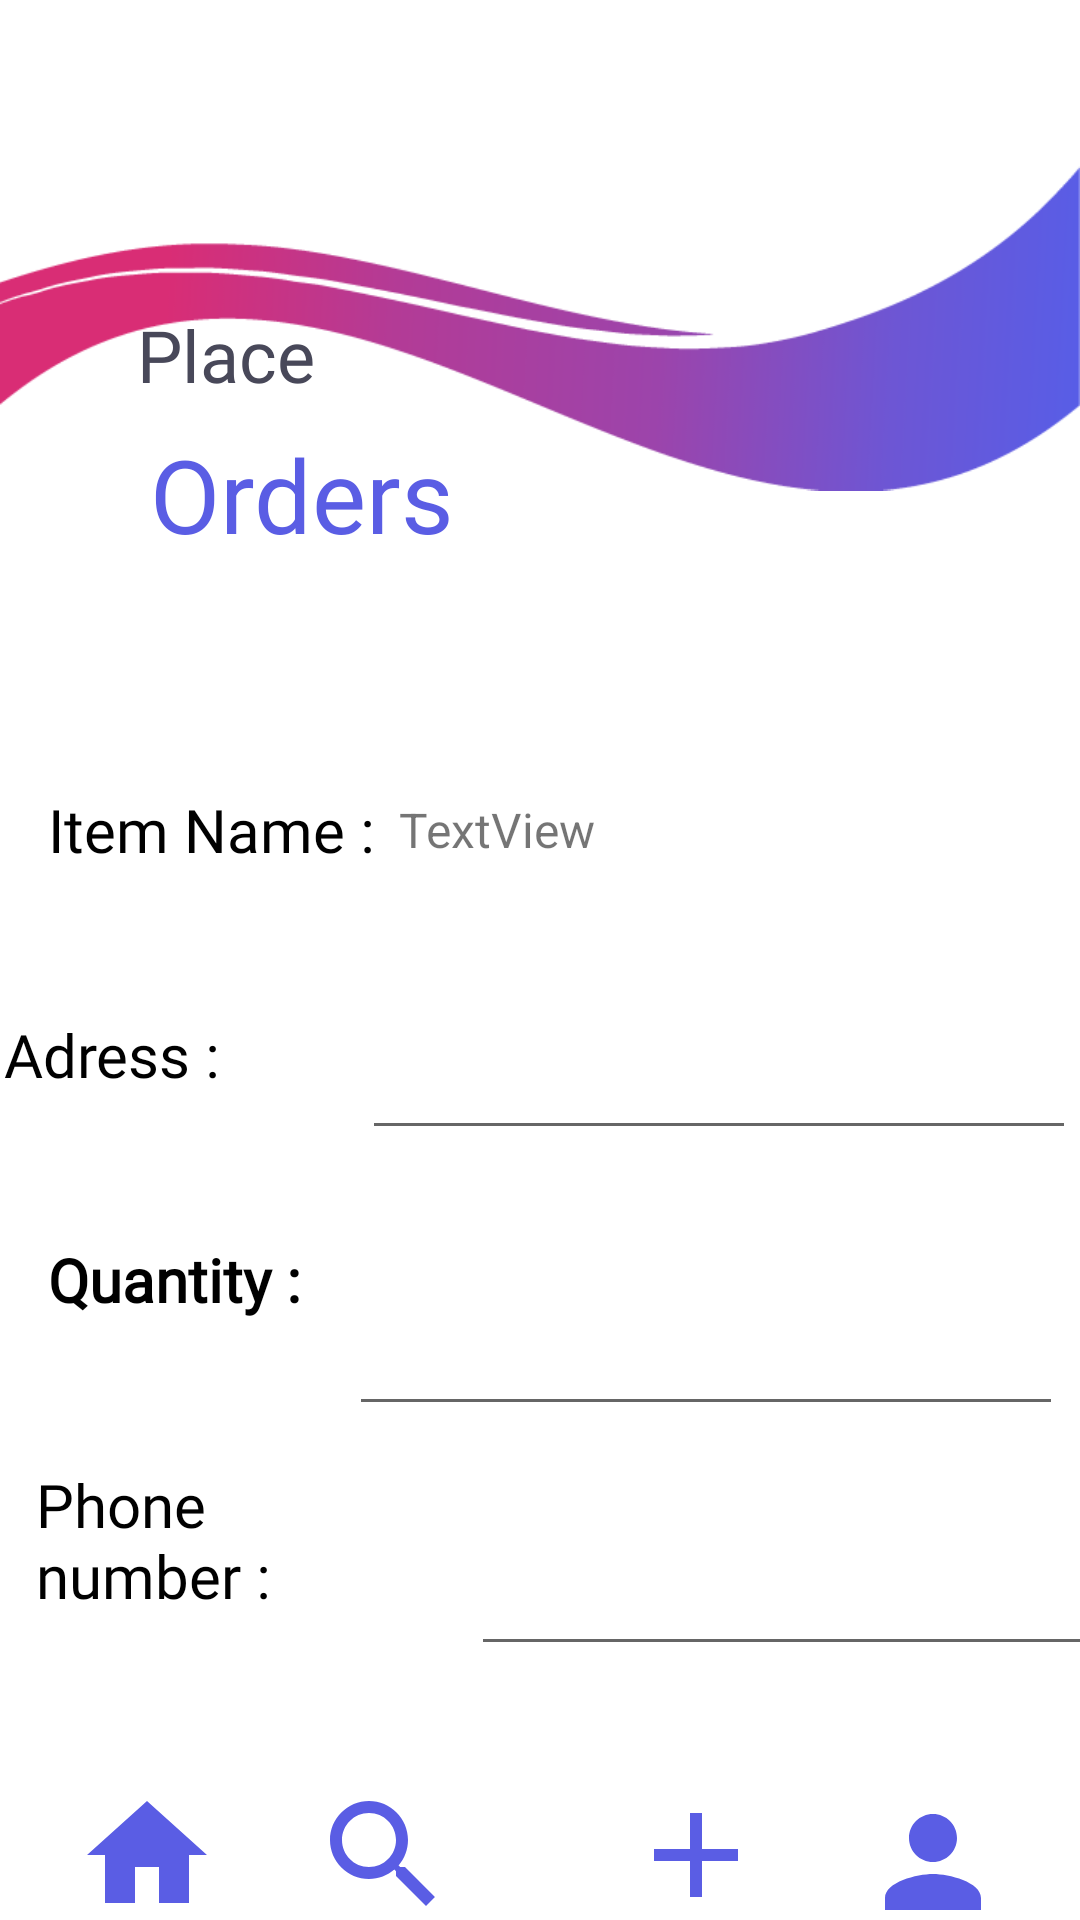

Screen size 1080×1920. Icon name, then its center in pixels as (x,y):
home: (147,1852)
plus: (696,1855)
profile: (933,1862)
search: (382,1853)
